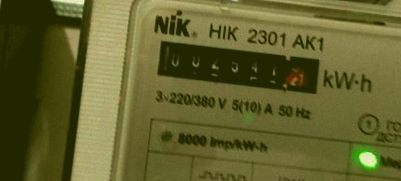0: (167, 45, 182, 68), (188, 46, 202, 68)
1: (266, 57, 280, 78)
2: (208, 50, 222, 71)
4: (247, 54, 262, 76)
5: (227, 51, 241, 74)
6: (287, 72, 300, 88)
screen: (145, 28, 332, 104)
